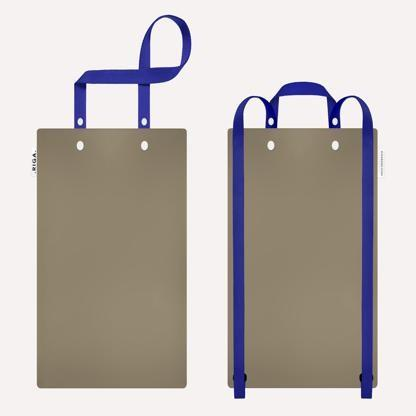not trash: (32, 16, 193, 396), (220, 76, 387, 402)
